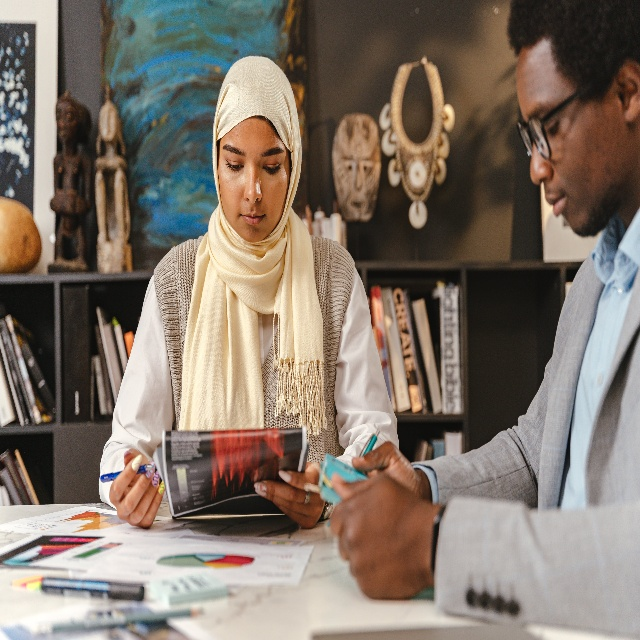Gafas: (515, 89, 581, 162)
Sin_guantes: (329, 466, 434, 580), (255, 463, 323, 530), (107, 450, 165, 527), (348, 436, 418, 498)
